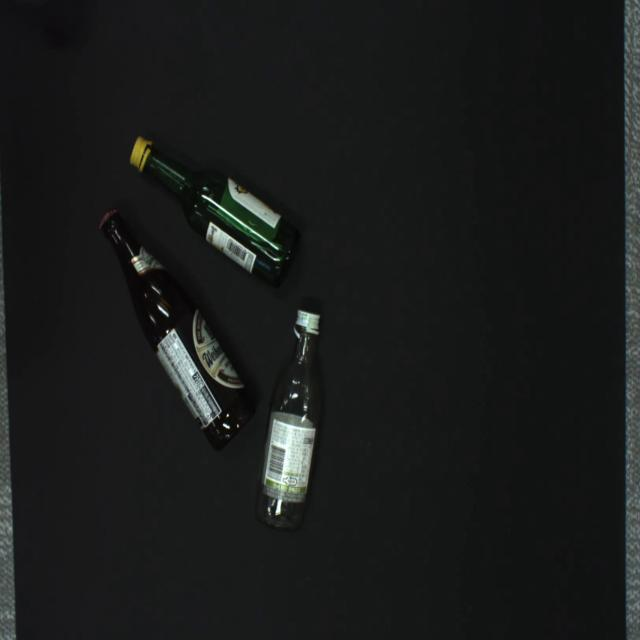beer-bottle: (100, 209, 254, 450)
soju-bottle: (130, 137, 300, 287), (254, 310, 322, 531)
